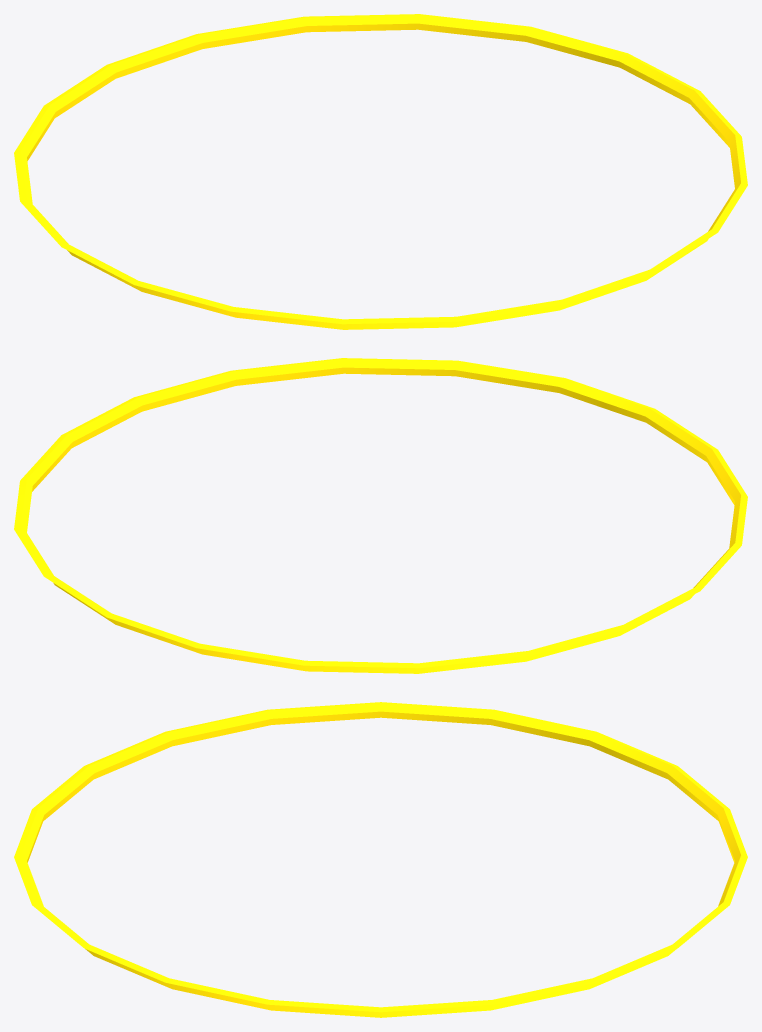
Rendered from light_4.fbx.
3 views of the same model, one above another, from view 1: azimuth 30°, elevation 25°; view 2: azimuth 150°, elevation 25°; view 3: azimuth 270°, elevation 25° (orthographic).
Parts seen in each view (by area): view 1: light_4; view 2: light_4; view 3: light_4.
Part boxes in pixels (left/top/right/bottom): light_4: left=14, top=14, right=747, bottom=329; light_4: left=14, top=358, right=747, bottom=673; light_4: left=14, top=702, right=747, bottom=1017.
Bounding box in the file's own units: 19.5 × 0.3729 × 19.5.
